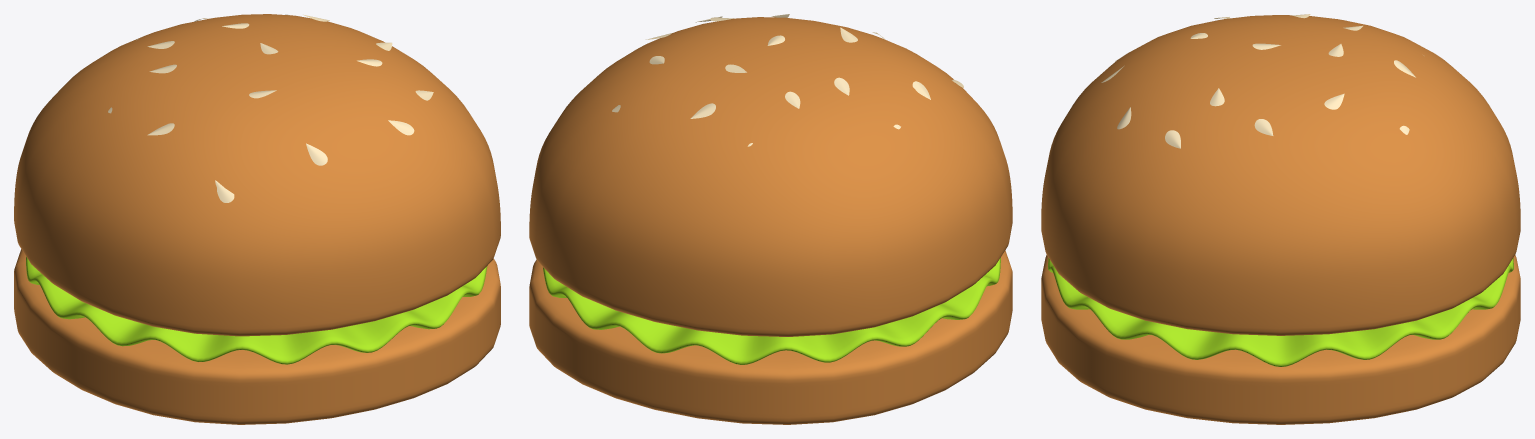
Rendered from burger lettuce.glb.
The picture shows the model from 3 angles, left to right: view 1: azimuth 30°, elevation 25°; view 2: azimuth 150°, elevation 25°; view 3: azimuth 270°, elevation 25°; orthographic projection.
Parts seen in each view (by area): view 1: burger lettuce.002; view 2: burger lettuce.002; view 3: burger lettuce.002.
Part boxes in pixels (<box>): burger lettuce.002: <box>14,14,500,424</box>; burger lettuce.002: <box>529,14,1012,424</box>; burger lettuce.002: <box>1041,14,1520,424</box>.
Bounding box in the file's own units: 1.18 × 0.7884 × 1.18.
